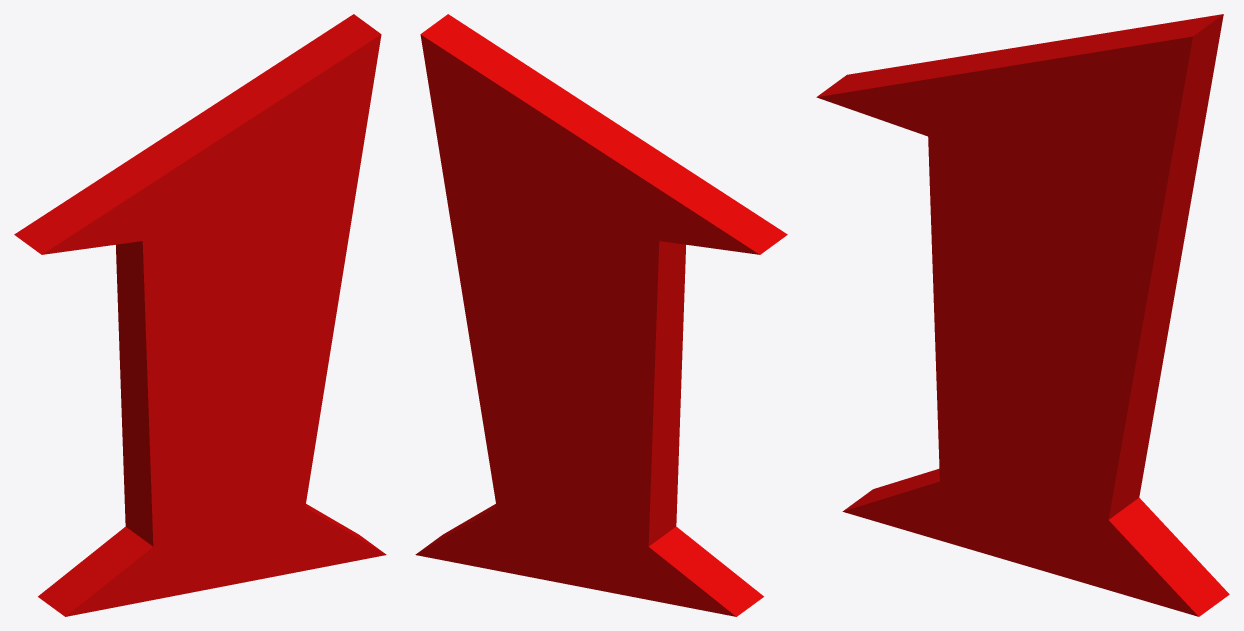
3 renders of one model, left to right at view 1: azimuth 30°, elevation 25°; view 2: azimuth 150°, elevation 25°; view 3: azimuth 330°, elevation 25°, orthographic. The views are drawn at different scales.
Visible parts, largest first — view 1: Trim_Char_x_1_1; view 2: Trim_Char_x_1_1; view 3: Trim_Char_x_1_1.
Boxes of the visible parts, x1=… form: Trim_Char_x_1_1: x1=14, y1=14, x2=386, y2=616; Trim_Char_x_1_1: x1=415, y1=14, x2=787, y2=616; Trim_Char_x_1_1: x1=816, y1=14, x2=1229, y2=616.
Bounding box in the file's own units: 0.5119 × 0.7396 × 0.0712.
